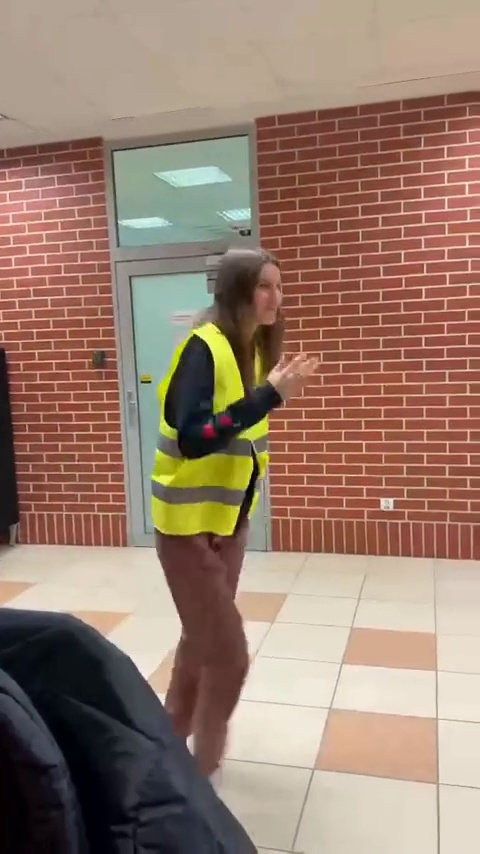vest: (151, 250, 290, 792)
